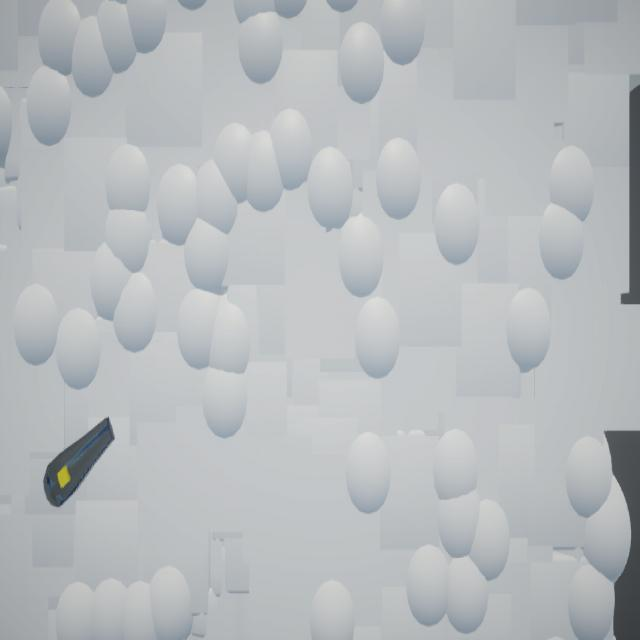handle_knife: (44, 418, 116, 510)
